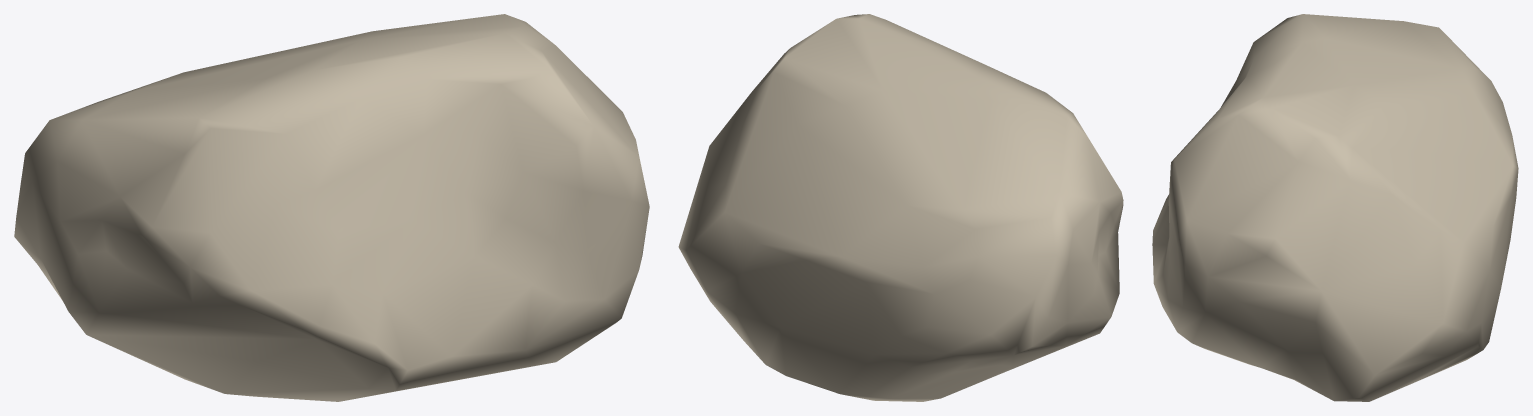
Rendered from itch_assetquest_pond_rock_3c.glb.
3 renders of one model, left to right at view 1: azimuth 30°, elevation 25°; view 2: azimuth 150°, elevation 25°; view 3: azimuth 270°, elevation 25°, orthographic. The views are drawn at different scales.
Parts seen in each view (by area): view 1: Rock_3c; view 2: Rock_3c; view 3: Rock_3c.
Boxes of the visible parts, box(x1,y1,x2,y2) form: Rock_3c: box(14, 14, 649, 401); Rock_3c: box(678, 14, 1123, 401); Rock_3c: box(1152, 14, 1518, 401).
Bounding box in the file's own units: 1.18 × 0.7642 × 0.8779.
